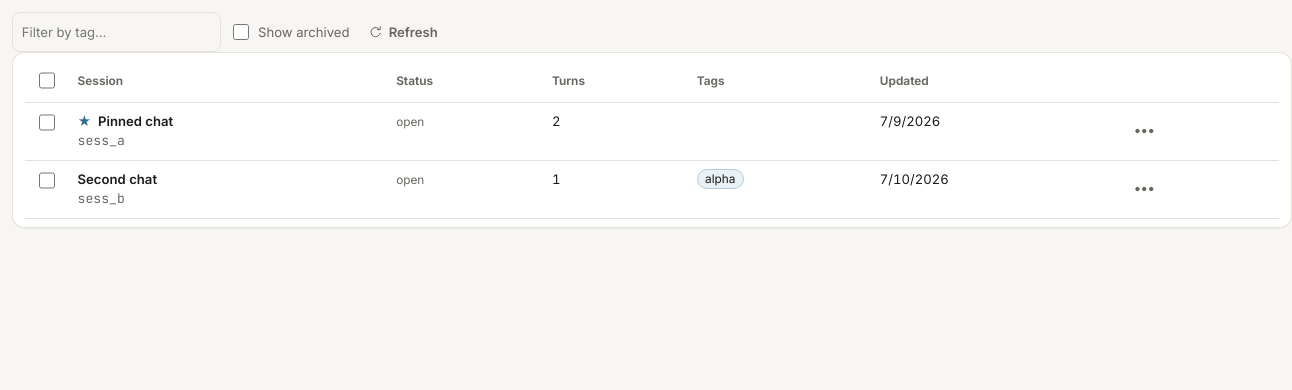
SessionsView organisation › offers none of the conversation-library controls
Expected: the text "Second chat" is shown, [78,171,157,187]
Click the button named "session actions".
click(1144, 189)  # box [1124,169,1164,209]
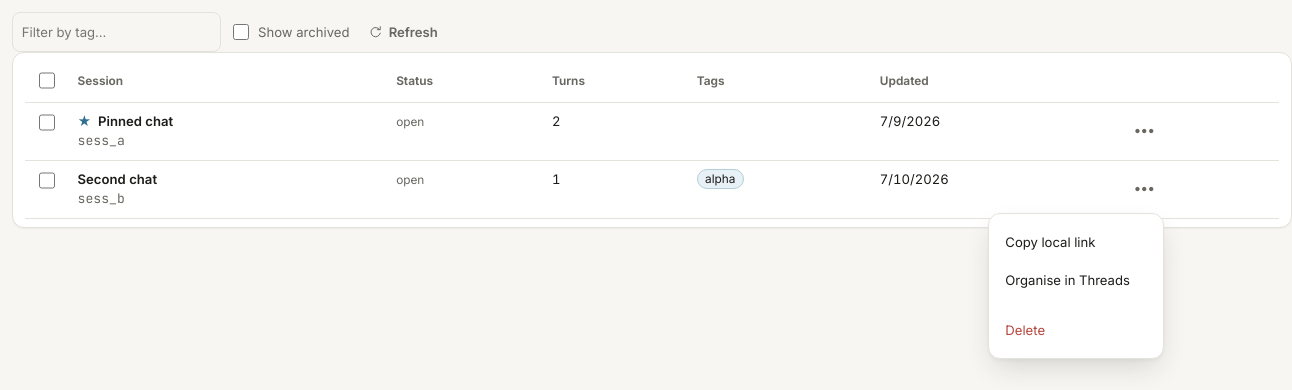
Result: the menu item "Delete" is shown at [997,310,1155,350]
